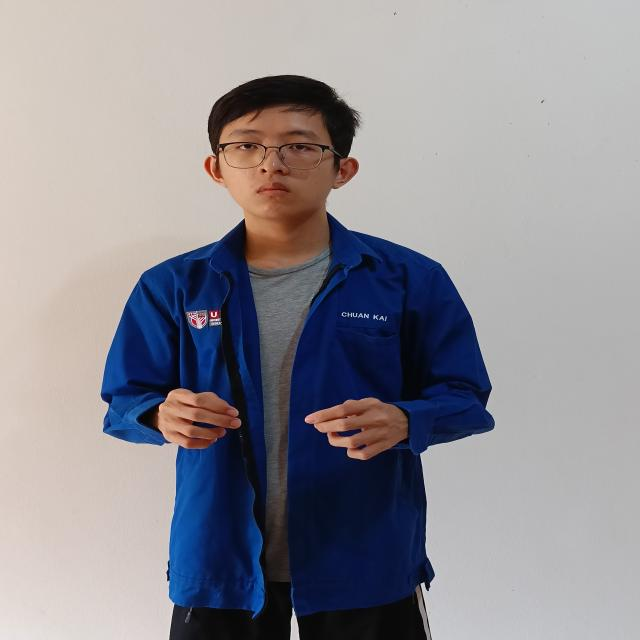person_with_labcoat: (102, 76, 494, 640)
